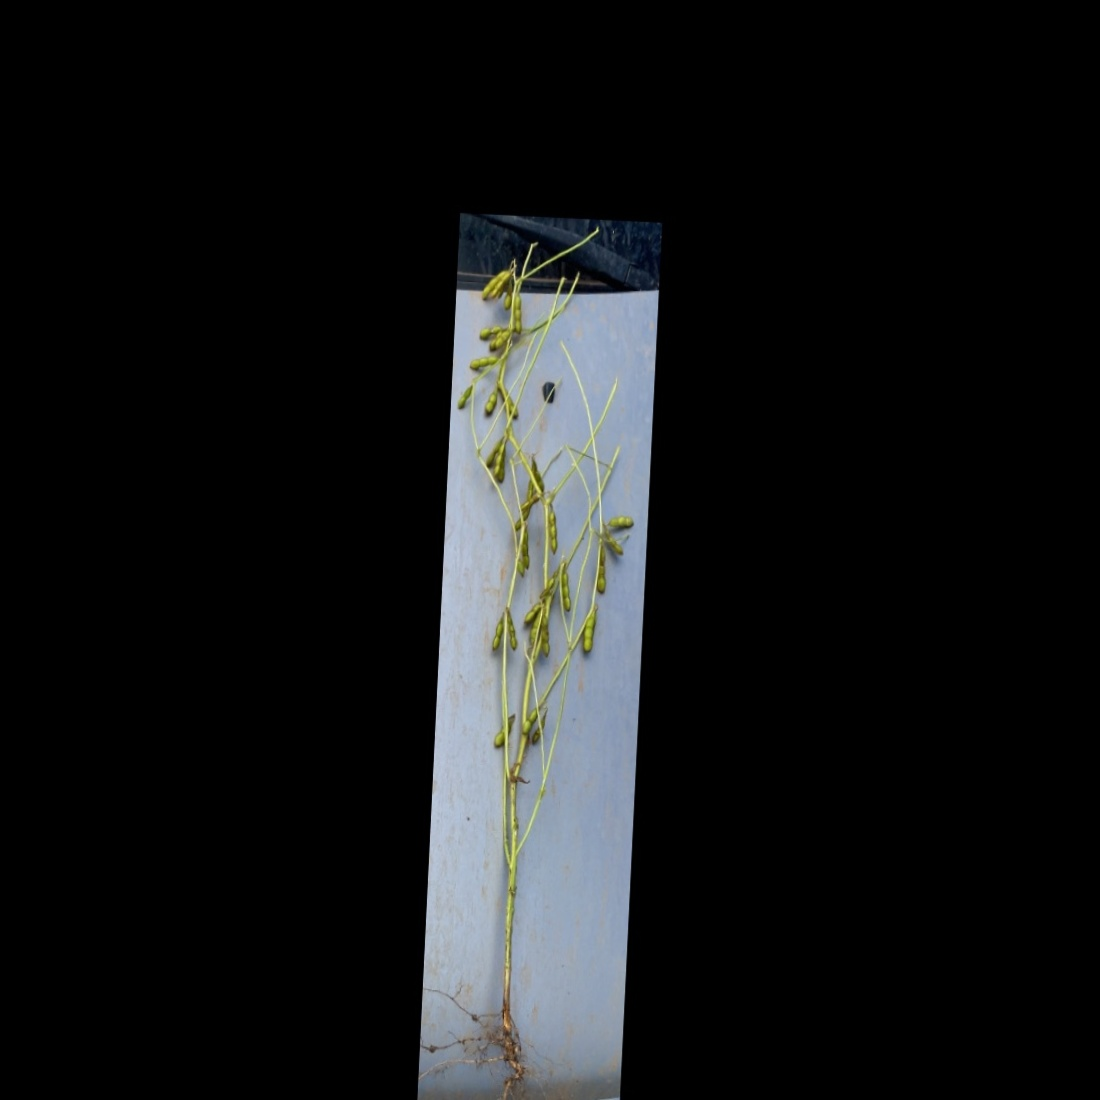pod: (544, 504, 563, 557), (581, 602, 600, 655), (491, 710, 515, 750), (537, 613, 554, 661), (602, 525, 626, 558), (559, 569, 575, 616), (595, 547, 610, 597), (467, 352, 502, 373), (606, 506, 635, 531), (519, 527, 534, 573), (488, 616, 506, 653), (519, 705, 539, 736), (512, 293, 526, 336), (506, 613, 520, 655), (458, 380, 474, 413), (501, 277, 515, 314), (482, 386, 499, 416)
soy: (425, 236, 650, 1100)
